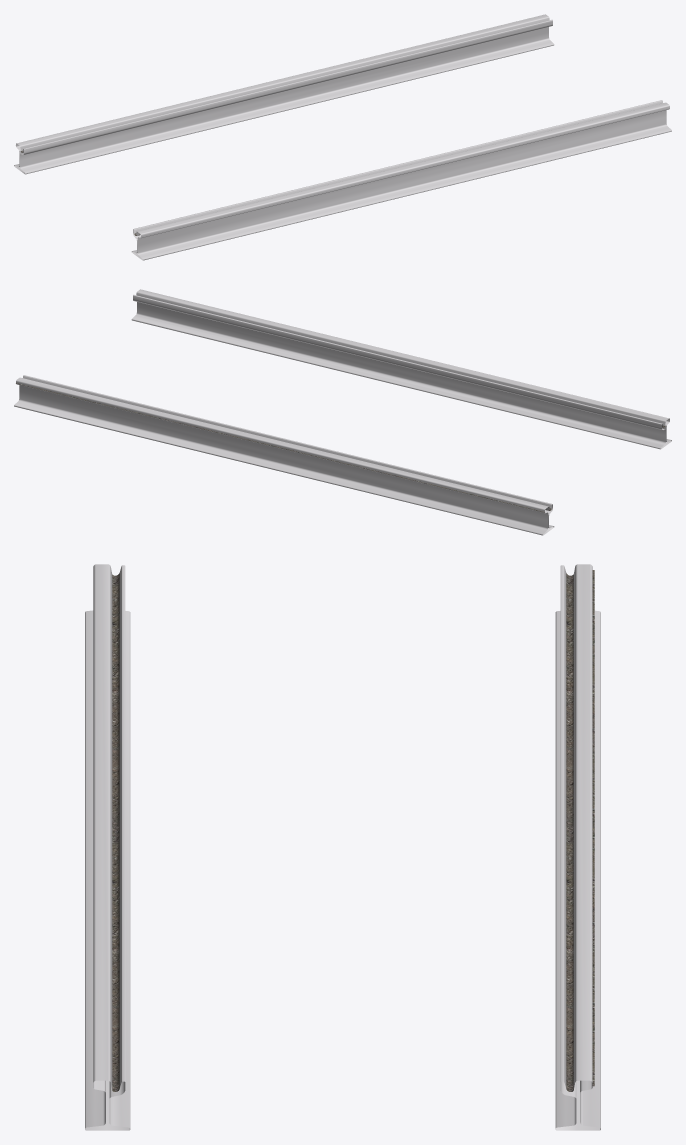
Rendered from SM_TramTrack.glb.
The picture shows the model from 3 angles, top to bottom: view 1: azimuth 30°, elevation 25°; view 2: azimuth 150°, elevation 25°; view 3: azimuth 270°, elevation 25°; orthographic projection. The views are drawn at different scales.
Parts seen in each view (by area): view 1: SM_TramTrack; view 2: SM_TramTrack; view 3: SM_TramTrack.
Part boxes in pixels (x1,y1,x2,y2): SM_TramTrack: [14, 14, 671, 260]; SM_TramTrack: [14, 289, 671, 535]; SM_TramTrack: [85, 564, 600, 1130].
Size of the model in its own units: 4 by 0.18 by 1.69.
2 materials, 1 textured.
